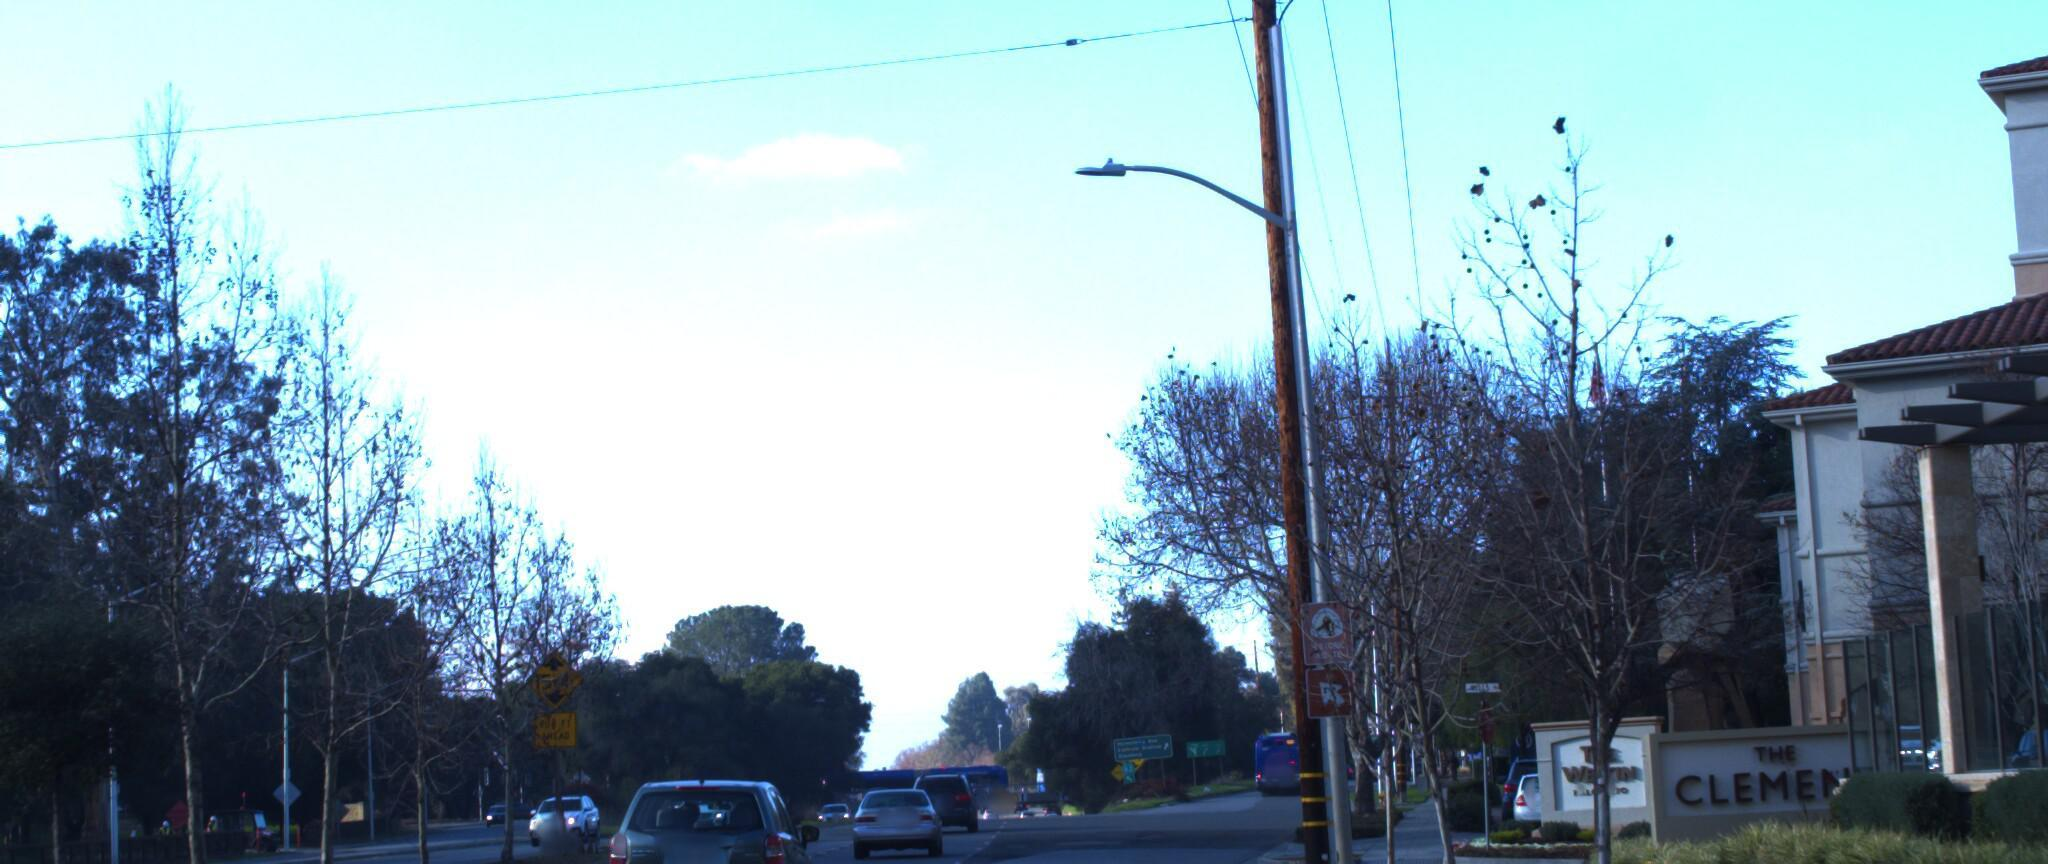car: (592, 743, 825, 864), (841, 771, 940, 851)
